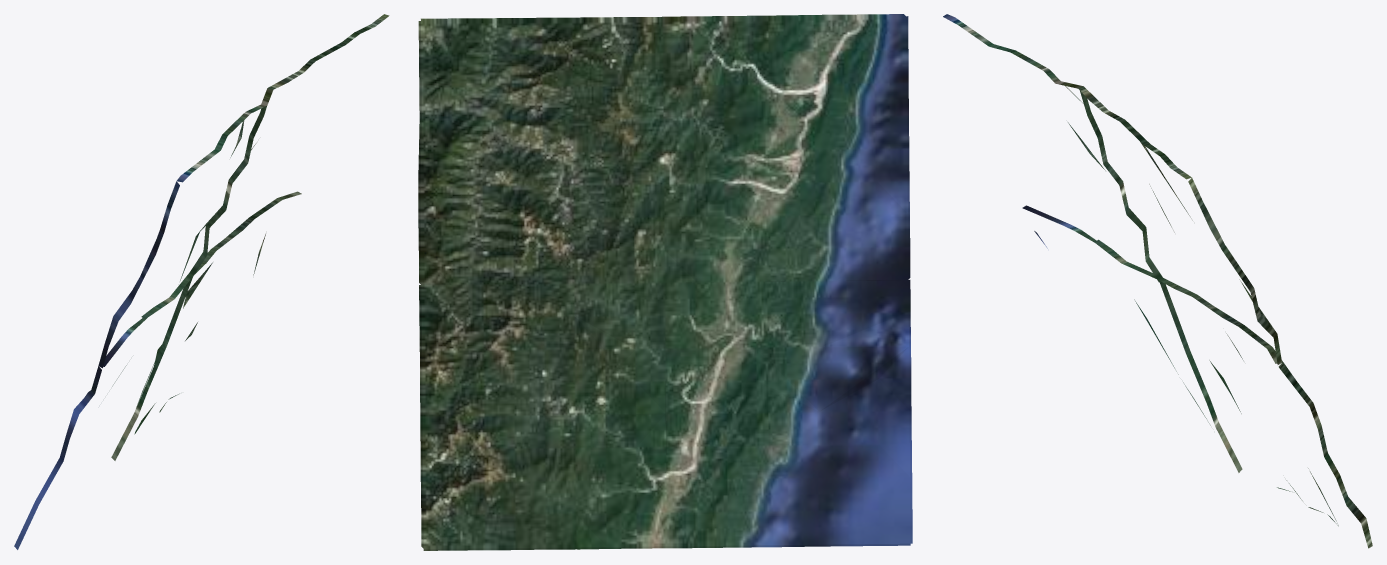
3 renders of one model, left to right at view 1: azimuth 30°, elevation 25°; view 2: azimuth 150°, elevation 25°; view 3: azimuth 270°, elevation 25°, orthographic. The views are drawn at different scales.
Size of the model in its own units: 77368 by 74150 by 67154.
Materials: 1 (1 with a texture image).
